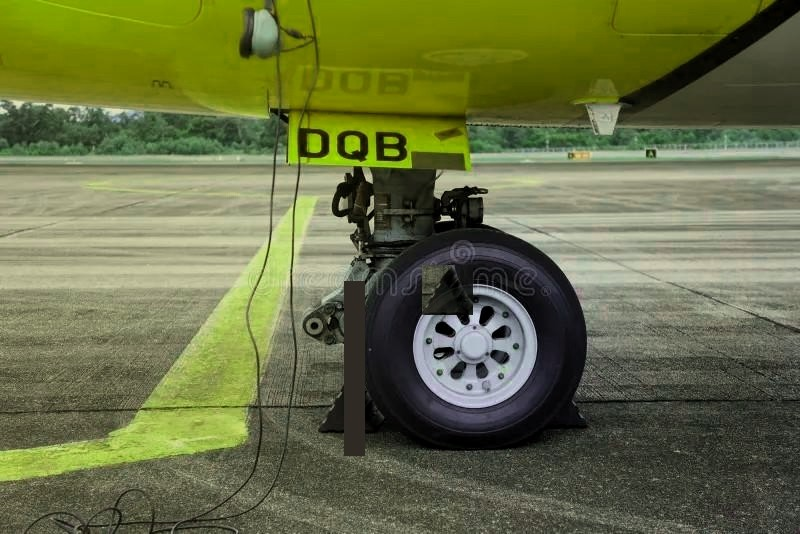chock: (318, 368, 384, 433), (422, 265, 473, 315)
wheel: (351, 224, 584, 448)
